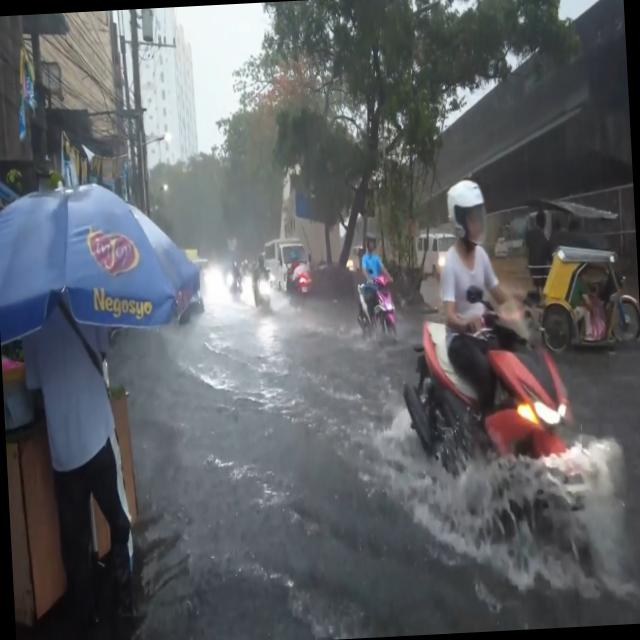half: (444, 177, 488, 254), (366, 230, 376, 256)
